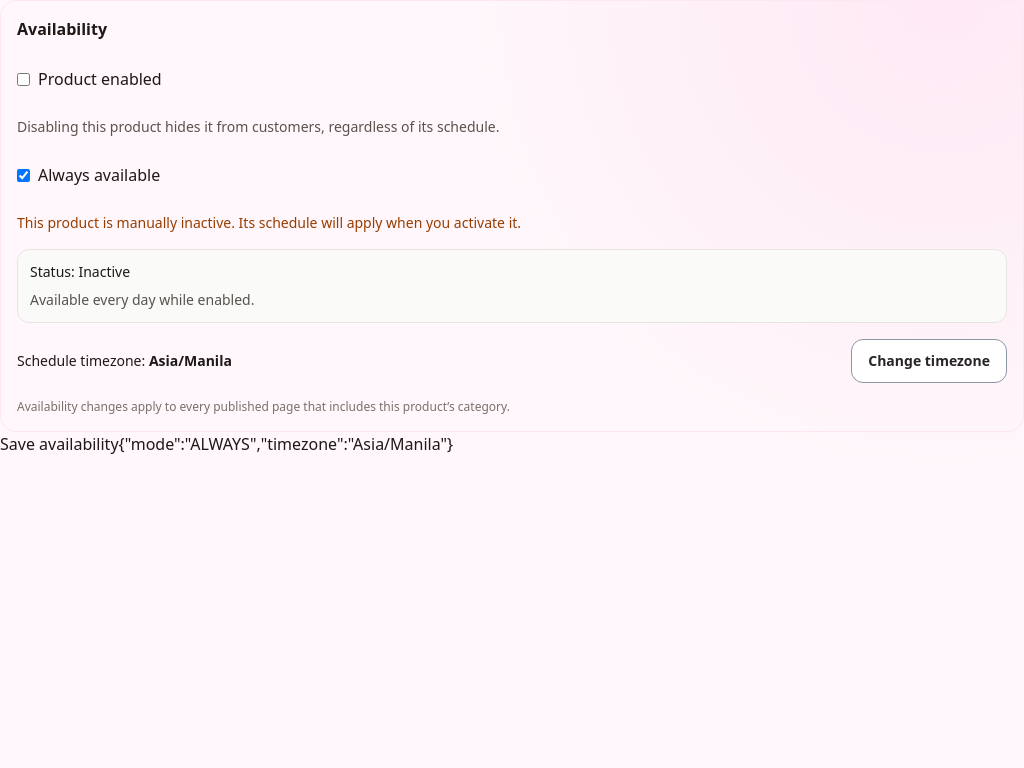
Test: product availability editor › hides recurrence/calendar for Always and keeps manual activation independent
Expected: the field labelled "Schedule mode" is not shown
Expected: the checkbox labelled "Product enabled" is not checked, [17, 72, 30, 86]
Click the checkbox labelled "Always available". click: click(24, 175)
box: [17, 168, 30, 182]
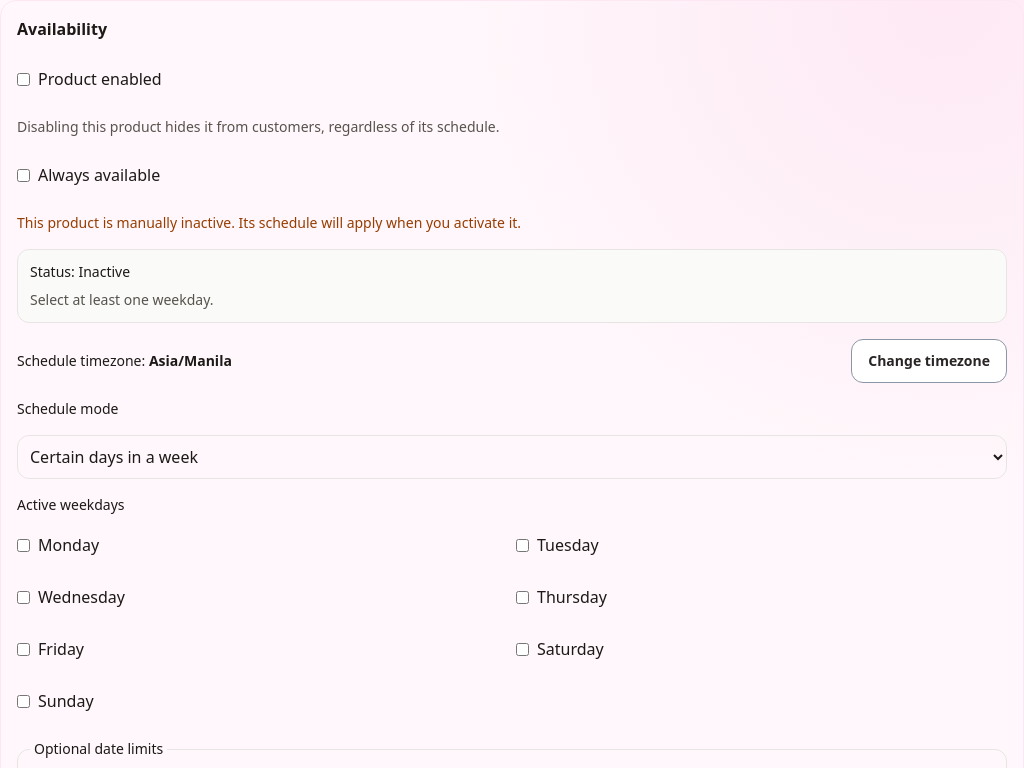
Expected: the dropdown labelled "Schedule mode" is shown, [17, 435, 1007, 479]
Click the checkbox labelled "Monday". click: click(24, 545)
box: [17, 538, 30, 552]
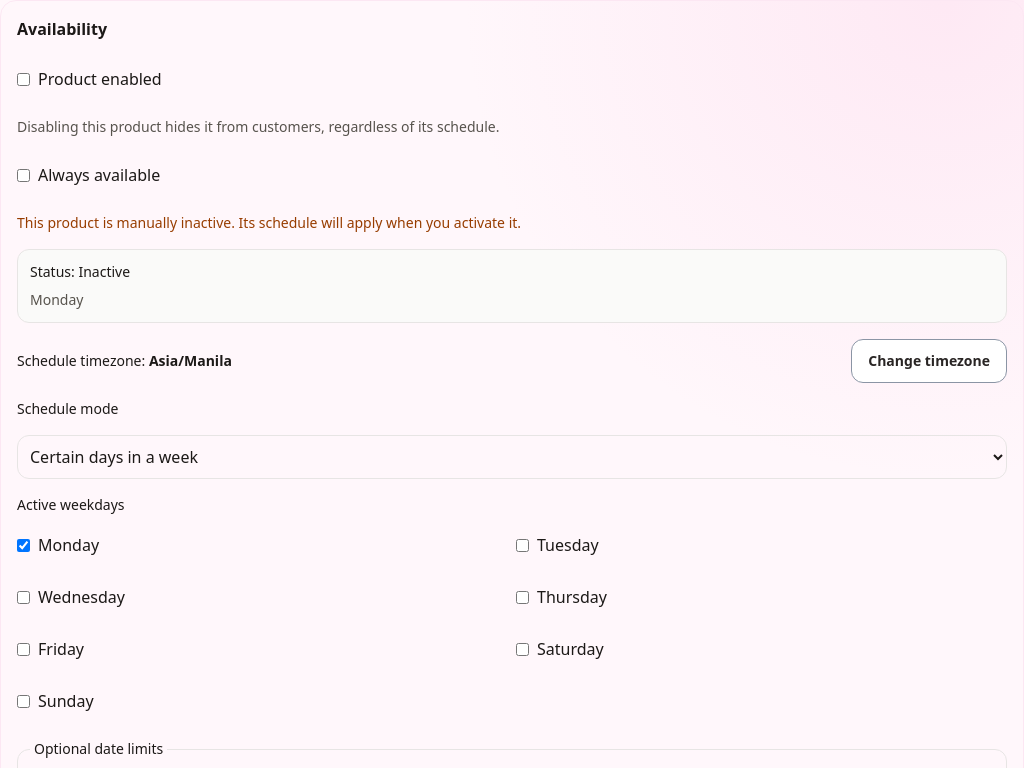
Click the checkbox labelled "Always available". click: click(24, 175)
box: [17, 168, 30, 182]
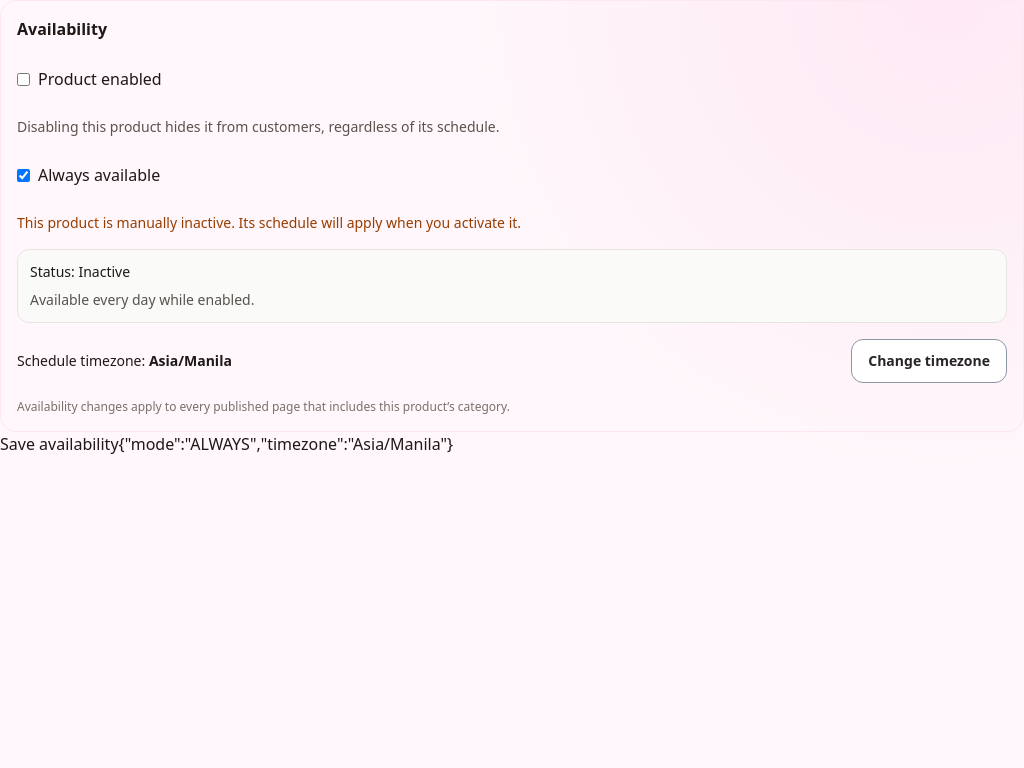
Expected: the checkbox labelled "Product enabled" is not checked, [17, 72, 30, 86]
Expected: the label labelled "Schedule mode" is gone
Click the checkbox labelled "Always available". click: click(24, 175)
box: [17, 168, 30, 182]
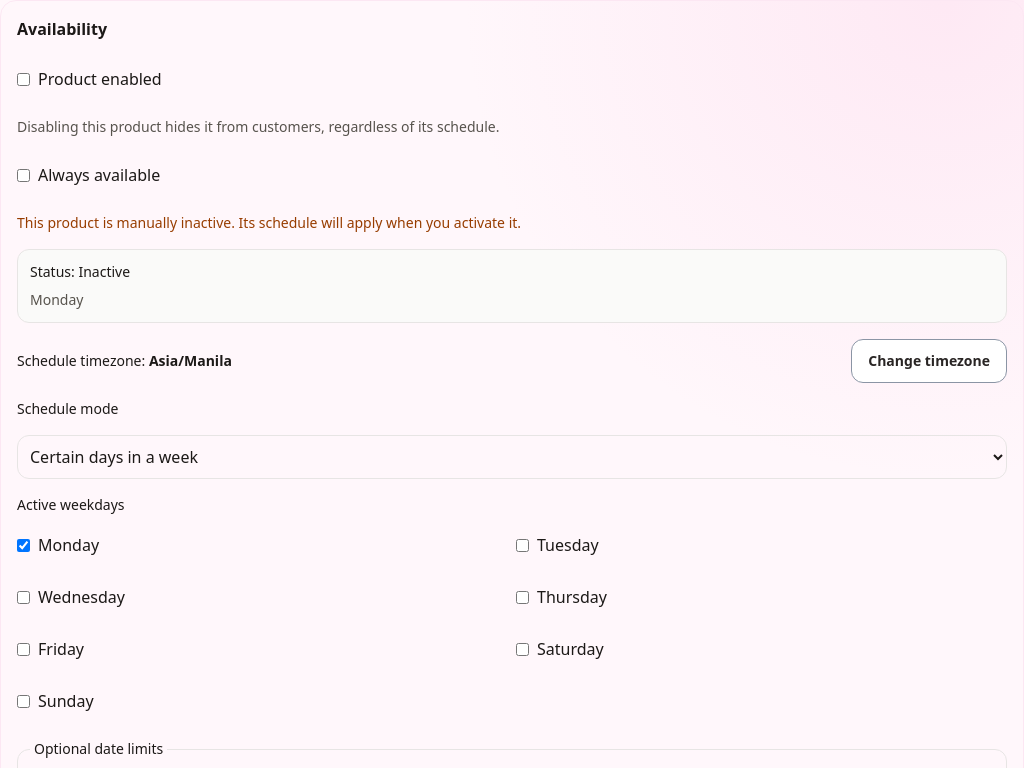
Expected: the checkbox labelled "Monday" is checked, [17, 538, 30, 552]
